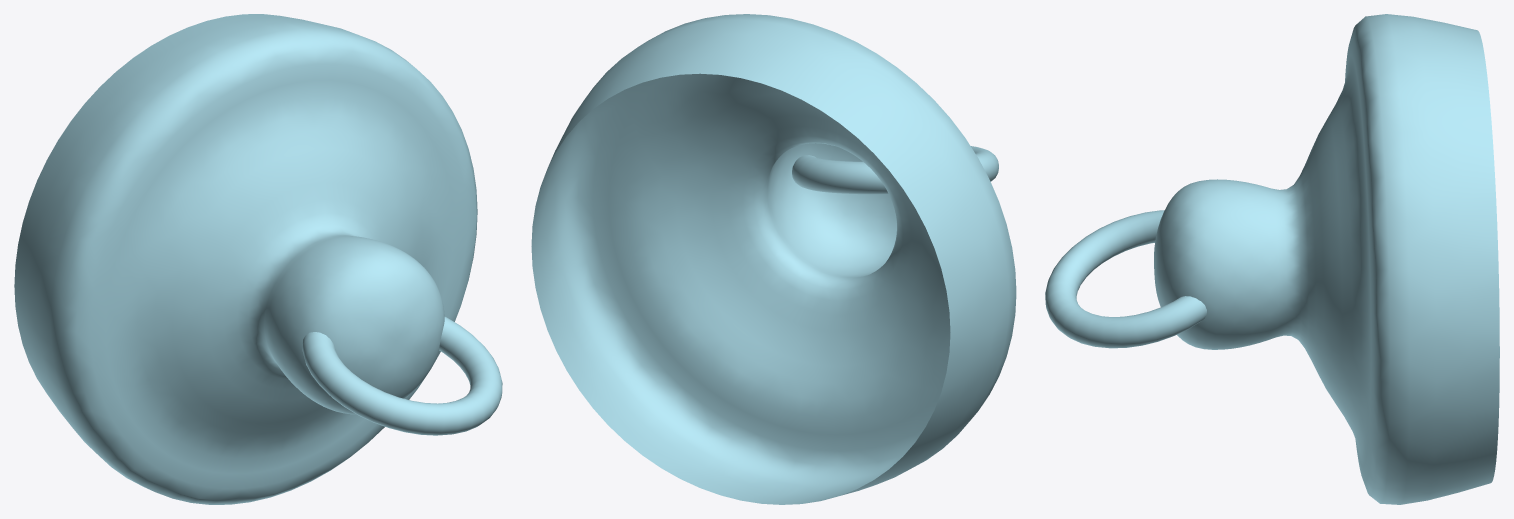
File: Drainplug.gltf
3 renders of one model, left to right at view 1: azimuth 30°, elevation 25°; view 2: azimuth 150°, elevation 25°; view 3: azimuth 270°, elevation 25°, orthographic. The views are drawn at different scales.
Visible parts, largest first — view 1: mouth1; view 2: mouth1; view 3: mouth1.
Part boxes in pixels (x1,y1,x2,y2): mouth1: (14, 14, 502, 504); mouth1: (531, 14, 1016, 504); mouth1: (1045, 14, 1499, 504).
Size of the model in its own units: 0.9003 by 0.9025 by 0.8347.
